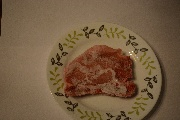beef: (63, 44, 138, 98)
